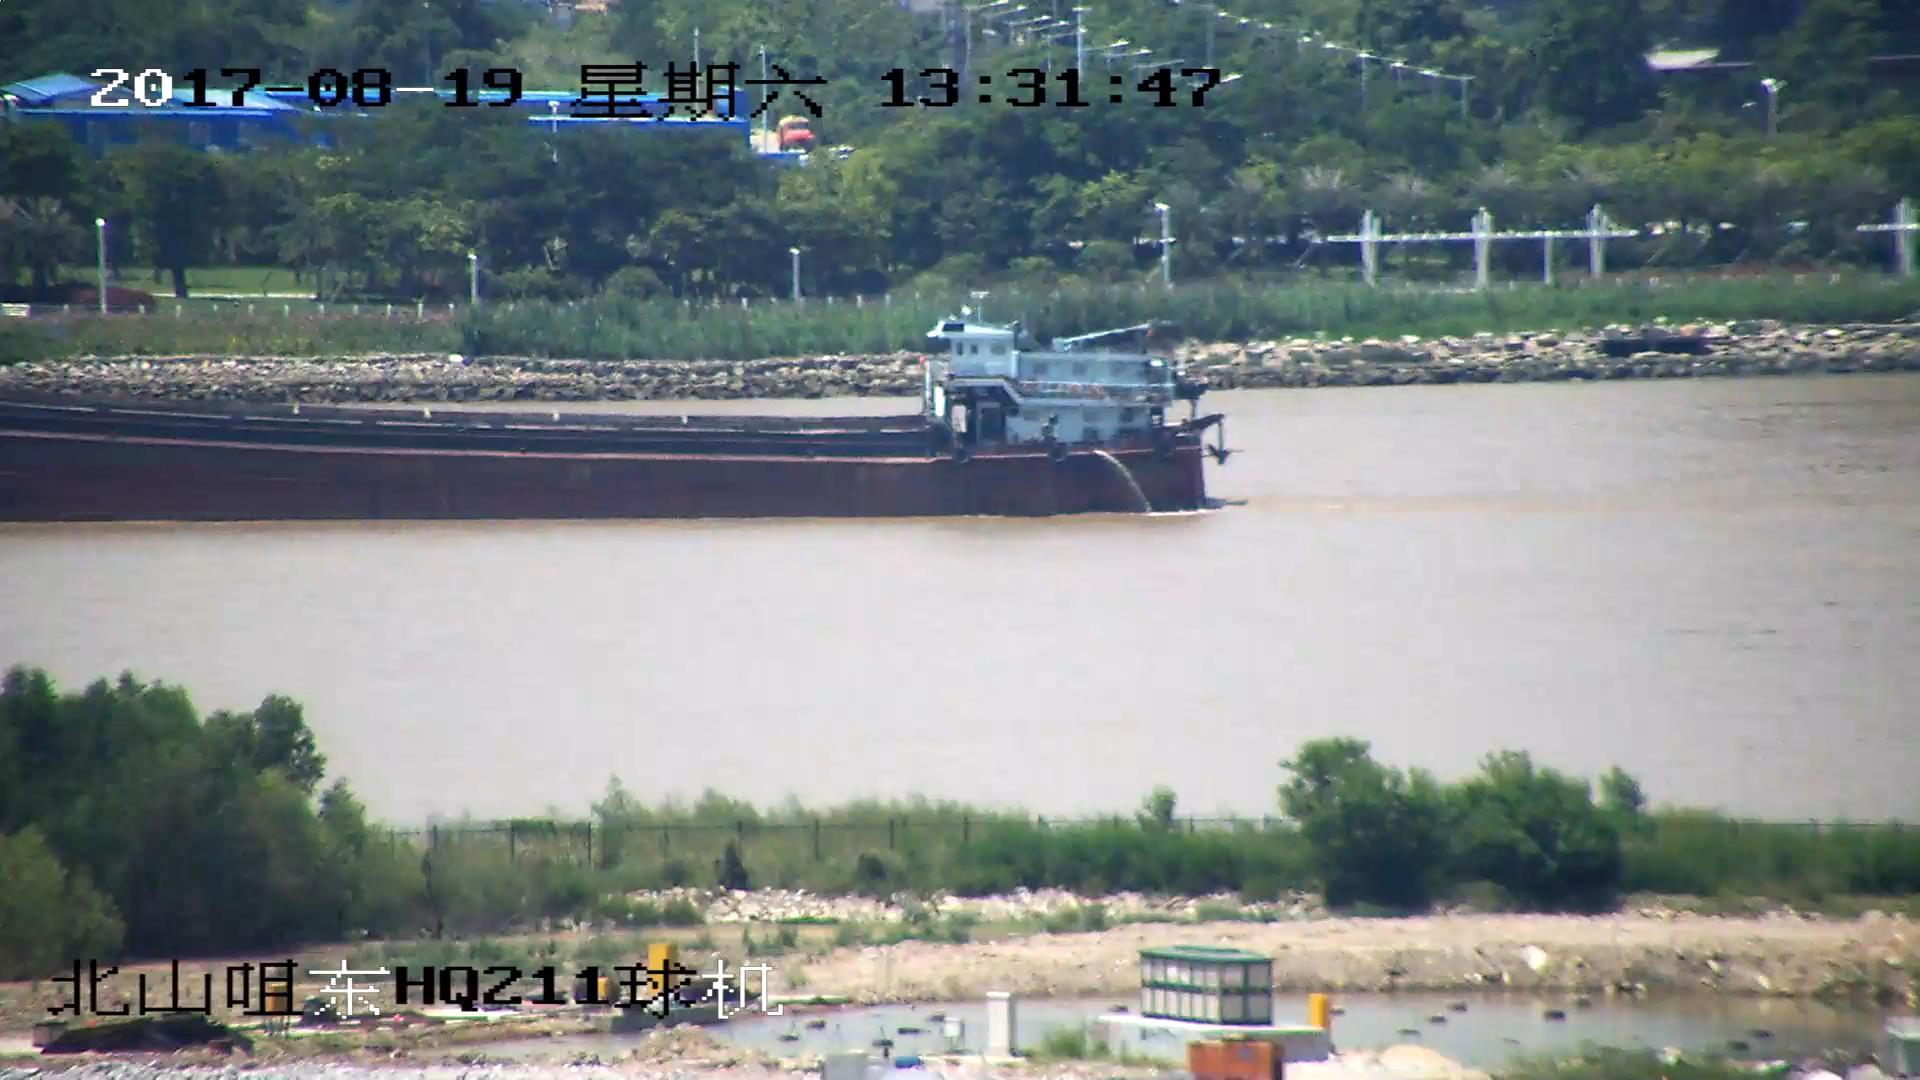Ship: (3, 295, 1226, 522)
